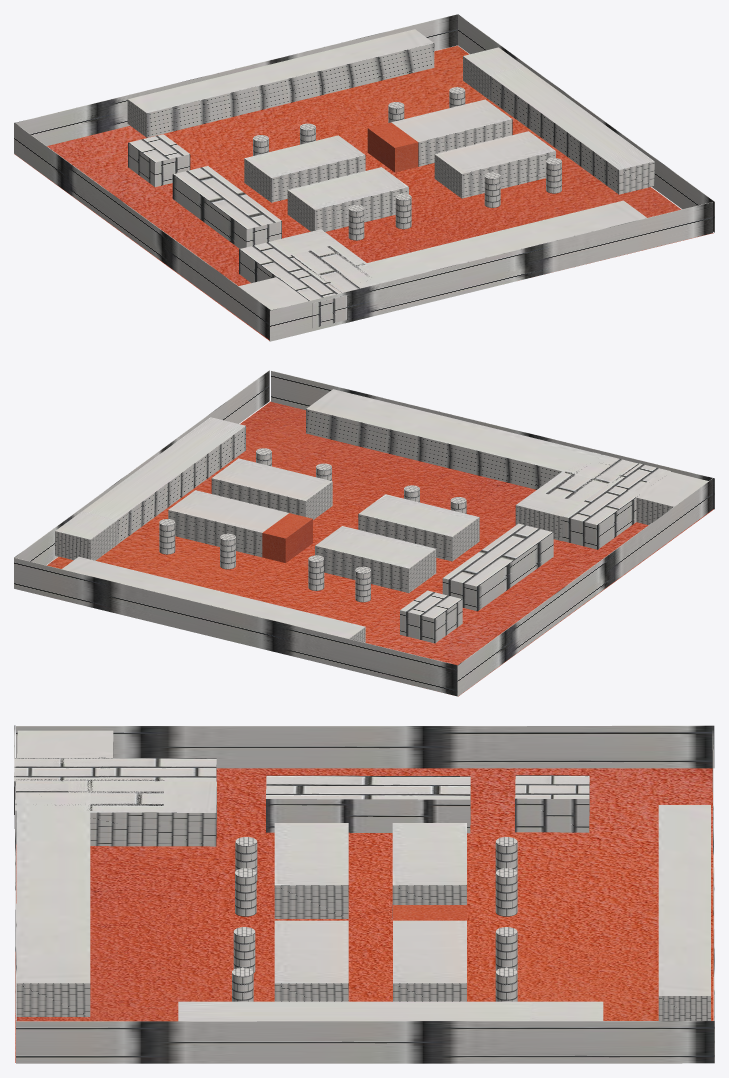
File: pisocuatro.obj
The picture shows the model from 3 angles, top to bottom: view 1: azimuth 30°, elevation 25°; view 2: azimuth 150°, elevation 25°; view 3: azimuth 270°, elevation 25°; orthographic projection. The views are drawn at different scales.
Parts seen in each view (by area): view 1: Plane, Cube.004, Cube.018, Cube.016, Cube.006, Cube.008, Cube.003, Cube.007, Cube.022, Cube.014, Cube.013, Cube.002 (+13 smaller); view 2: Plane, Cube.003, Cube.008, Cube.006, Cube.016, Cube.022, Cube.013, Cube.018, Cube.014, Cube.007, Cube.002, Cube.019 (+13 smaller); view 3: Plane, Cube.005, Cube.006, Cube.008, Cube.018, Cube.022, Cube.012, Cube.016, Cube.014, Cube.013, Cube.007, Cube.002 (+15 smaller).
Boxes of the visible parts, box(x1,y1,x2,y2) form: Plane: box(14, 45, 713, 340); Cube.004: box(269, 202, 712, 341); Cube.018: box(127, 29, 434, 137); Cube.016: box(490, 66, 654, 194); Cube.006: box(14, 122, 270, 339); Cube.008: box(337, 200, 646, 288); Cube.003: box(15, 14, 457, 145); Cube.007: box(434, 131, 555, 198); Cube.022: box(172, 166, 281, 248); Cube.014: box(287, 167, 408, 231); Cube.013: box(244, 135, 365, 202); Cube.002: box(391, 99, 512, 166); Plane: box(47, 401, 713, 696); Cube.003: box(14, 557, 457, 696); Cube.008: box(306, 389, 619, 489); Cube.006: box(457, 478, 712, 696); Cube.016: box(82, 417, 245, 543); Cube.022: box(442, 523, 553, 611); Cube.013: box(315, 526, 436, 592); Cube.018: box(62, 557, 365, 642); Cube.014: box(358, 494, 479, 561); Cube.007: box(211, 458, 332, 519); Cube.002: box(168, 490, 288, 557); Cube.019: box(562, 485, 639, 549); Plane: box(15, 768, 713, 1062); Cube.005: box(16, 1021, 714, 1063); Cube.006: box(16, 725, 714, 768); Cube.008: box(16, 792, 90, 1016); Cube.018: box(658, 805, 710, 1020); Cube.022: box(266, 775, 470, 833); Cube.012: box(68, 781, 216, 846); Cube.016: box(178, 1001, 531, 1021); Cube.014: box(274, 823, 348, 918); Cube.013: box(392, 823, 466, 918); Cube.007: box(274, 920, 348, 1001); Cube.002: box(393, 920, 466, 1001).
Size of the model in its own units: 64.59 by 4.29 by 64.55.
Materials: 2 (2 with a texture image).
